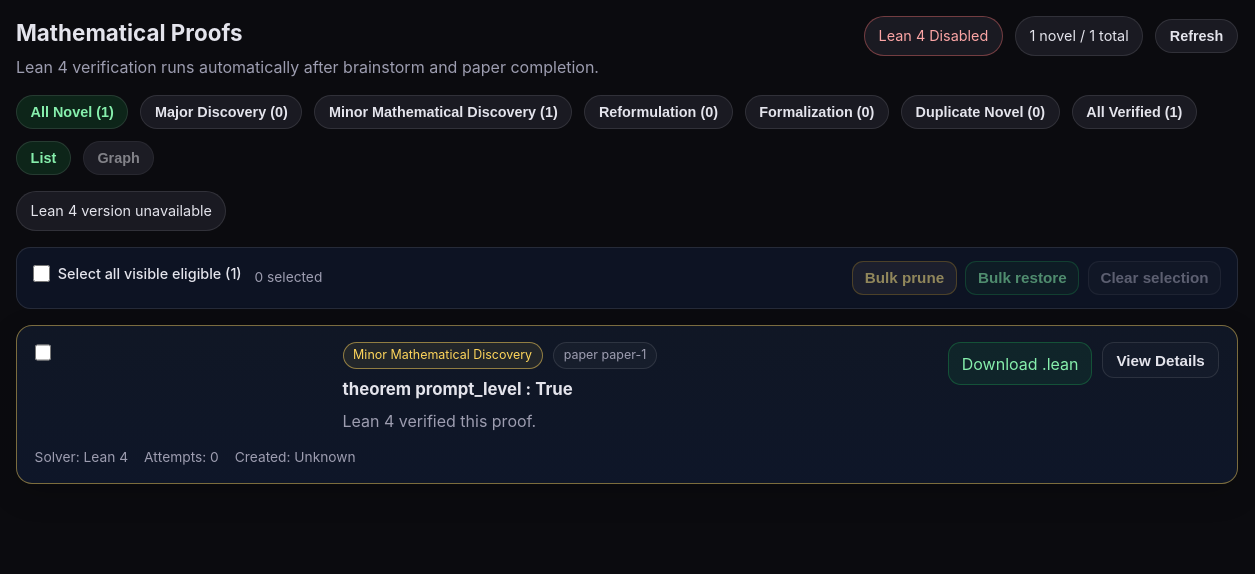
Scenario: clears selection and reports all-none bulk eligibility
The width and height of the screenshot is (1255, 574).
Click the checkbox named "Select proof theorem prompt_level : True (proof-1)": (43, 352) [35, 344, 51, 361]
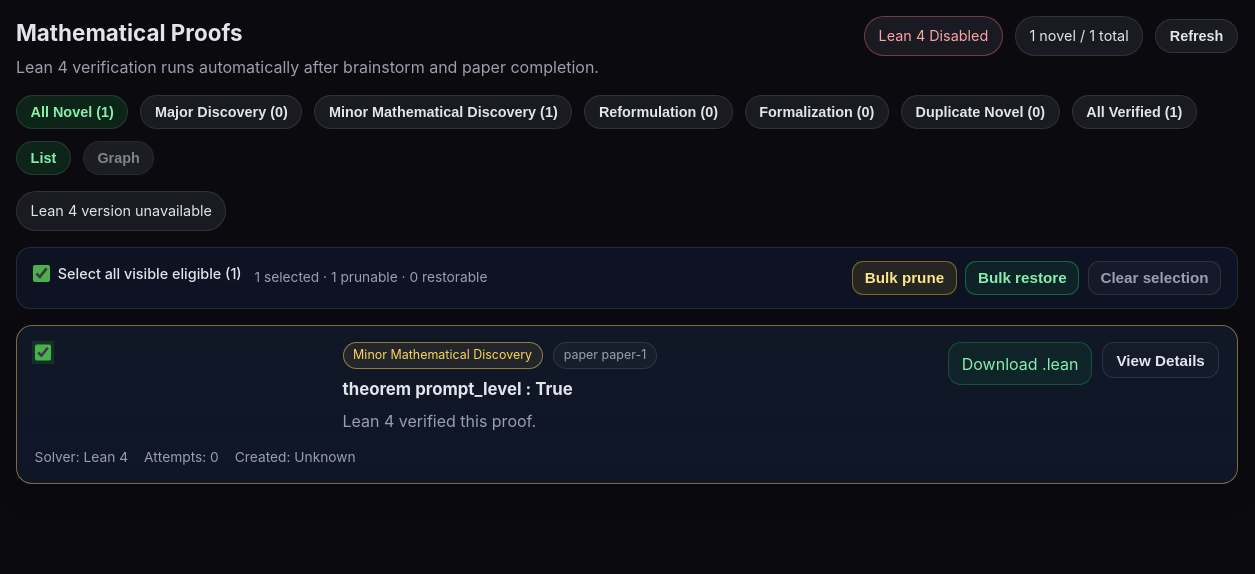
Click the button "Bulk restore": (1022, 278) [965, 261, 1079, 295]
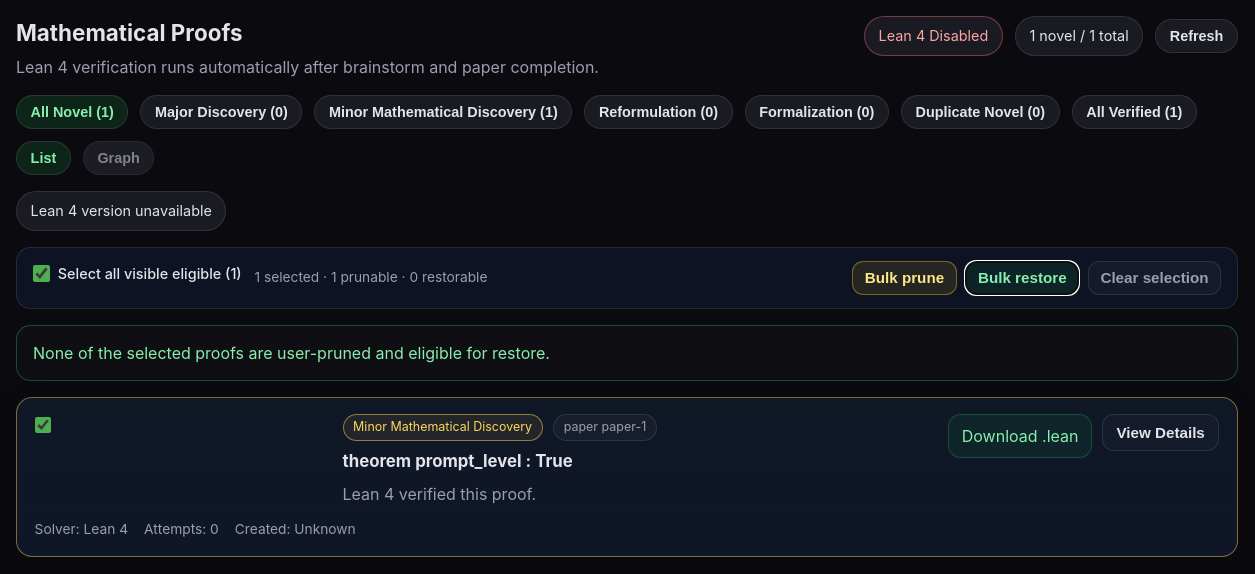
Check: the text "None of the selected proofs are user-pruned and eligible for restore." is shown, box [16, 325, 1238, 381]
Click the button "Clear selection": (1154, 278) [1088, 261, 1221, 295]
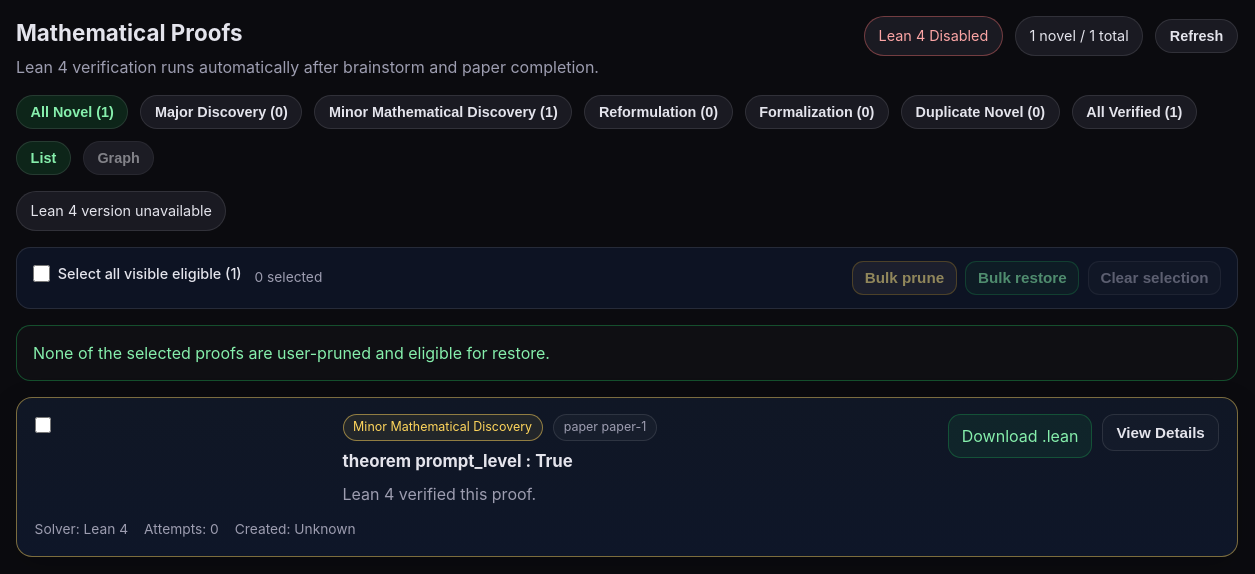
Check: the text "0 selected" is shown, box [254, 268, 322, 288]
